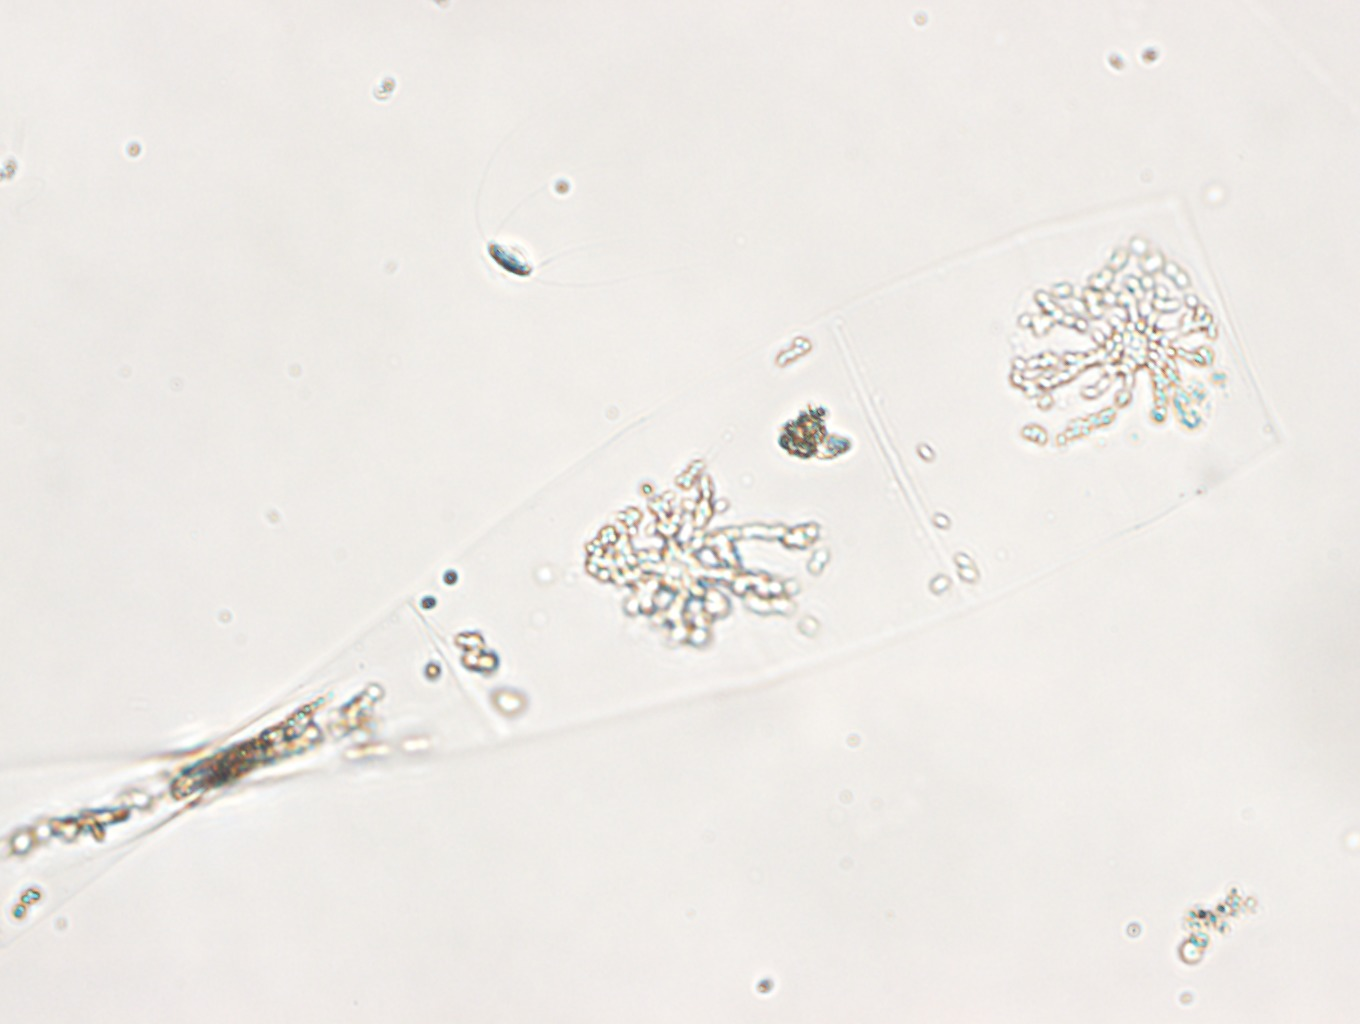helicotheca: (1, 186, 1280, 956)
